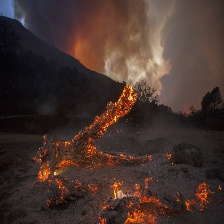fire: (26, 87, 141, 179), (57, 178, 221, 224)
smoke: (18, 1, 173, 88)
